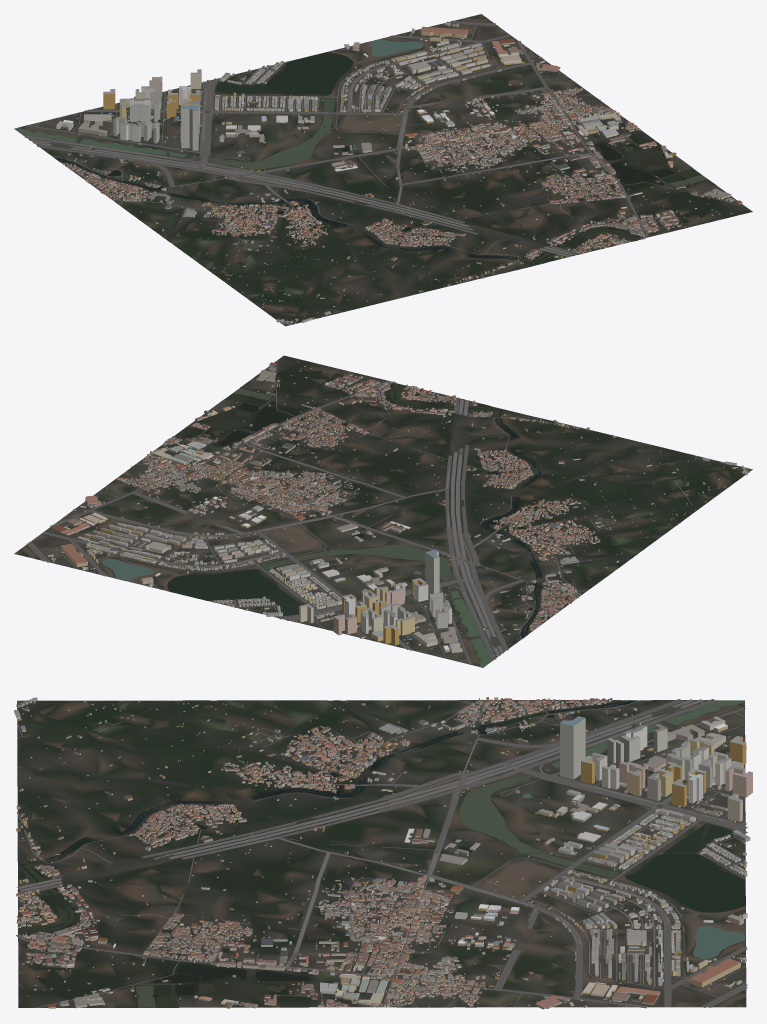
The picture shows the model from 3 angles, top to bottom: view 1: azimuth 30°, elevation 25°; view 2: azimuth 150°, elevation 25°; view 3: azimuth 270°, elevation 25°; orthographic projection. The views are drawn at different scales.
Visible parts, largest first — view 1: ground, buildings, roads, water; view 2: ground, buildings, roads, water; view 3: ground, buildings, roads, water.
Part boxes in pixels (box(x1,y1,x2,y2)): ground: box(14, 14, 752, 326); buildings: box(56, 23, 742, 323); roads: box(24, 20, 746, 324); water: box(15, 39, 707, 272); ground: box(14, 355, 752, 667); buildings: box(47, 361, 747, 652); roads: box(26, 360, 749, 664); water: box(102, 383, 542, 667); ground: box(17, 700, 746, 1007); buildings: box(14, 697, 752, 1009); roads: box(16, 699, 747, 1008); water: box(18, 700, 745, 1007).
Bounding box in the file's own units: 2831 × 232 × 2846.
